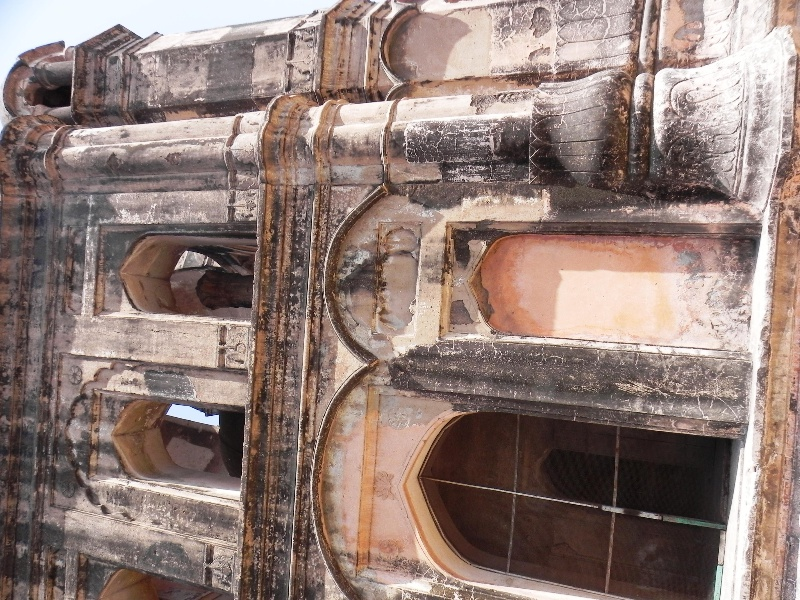Spalling: (446, 261, 499, 337)
